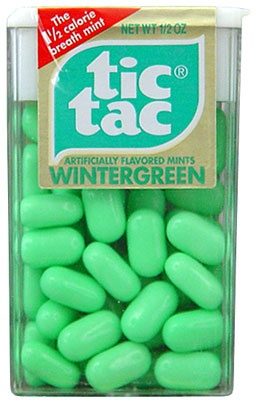grozi_21: (4, 6, 250, 397)
